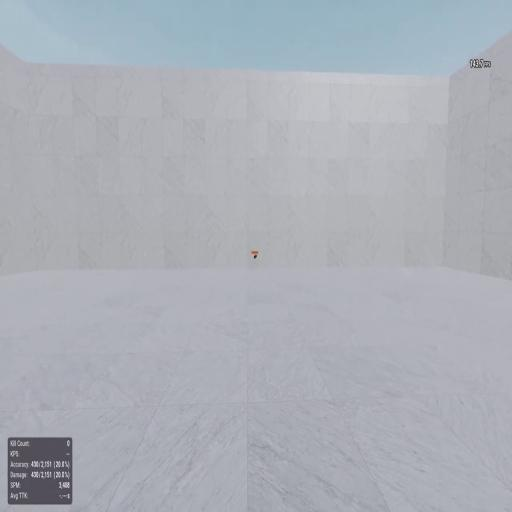Crosshair: (255, 254, 257, 258)
Target: (254, 255, 256, 259)
